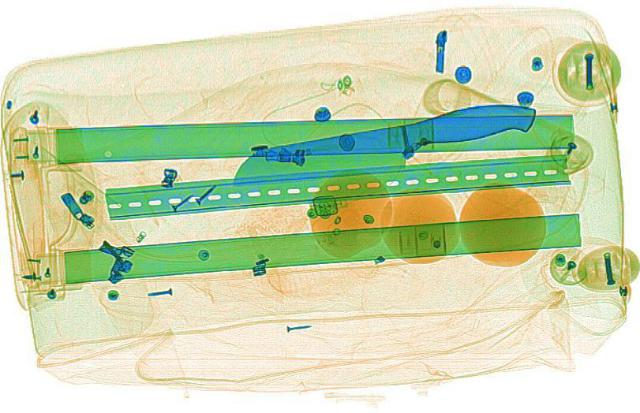Knife: (216, 94, 552, 197)
